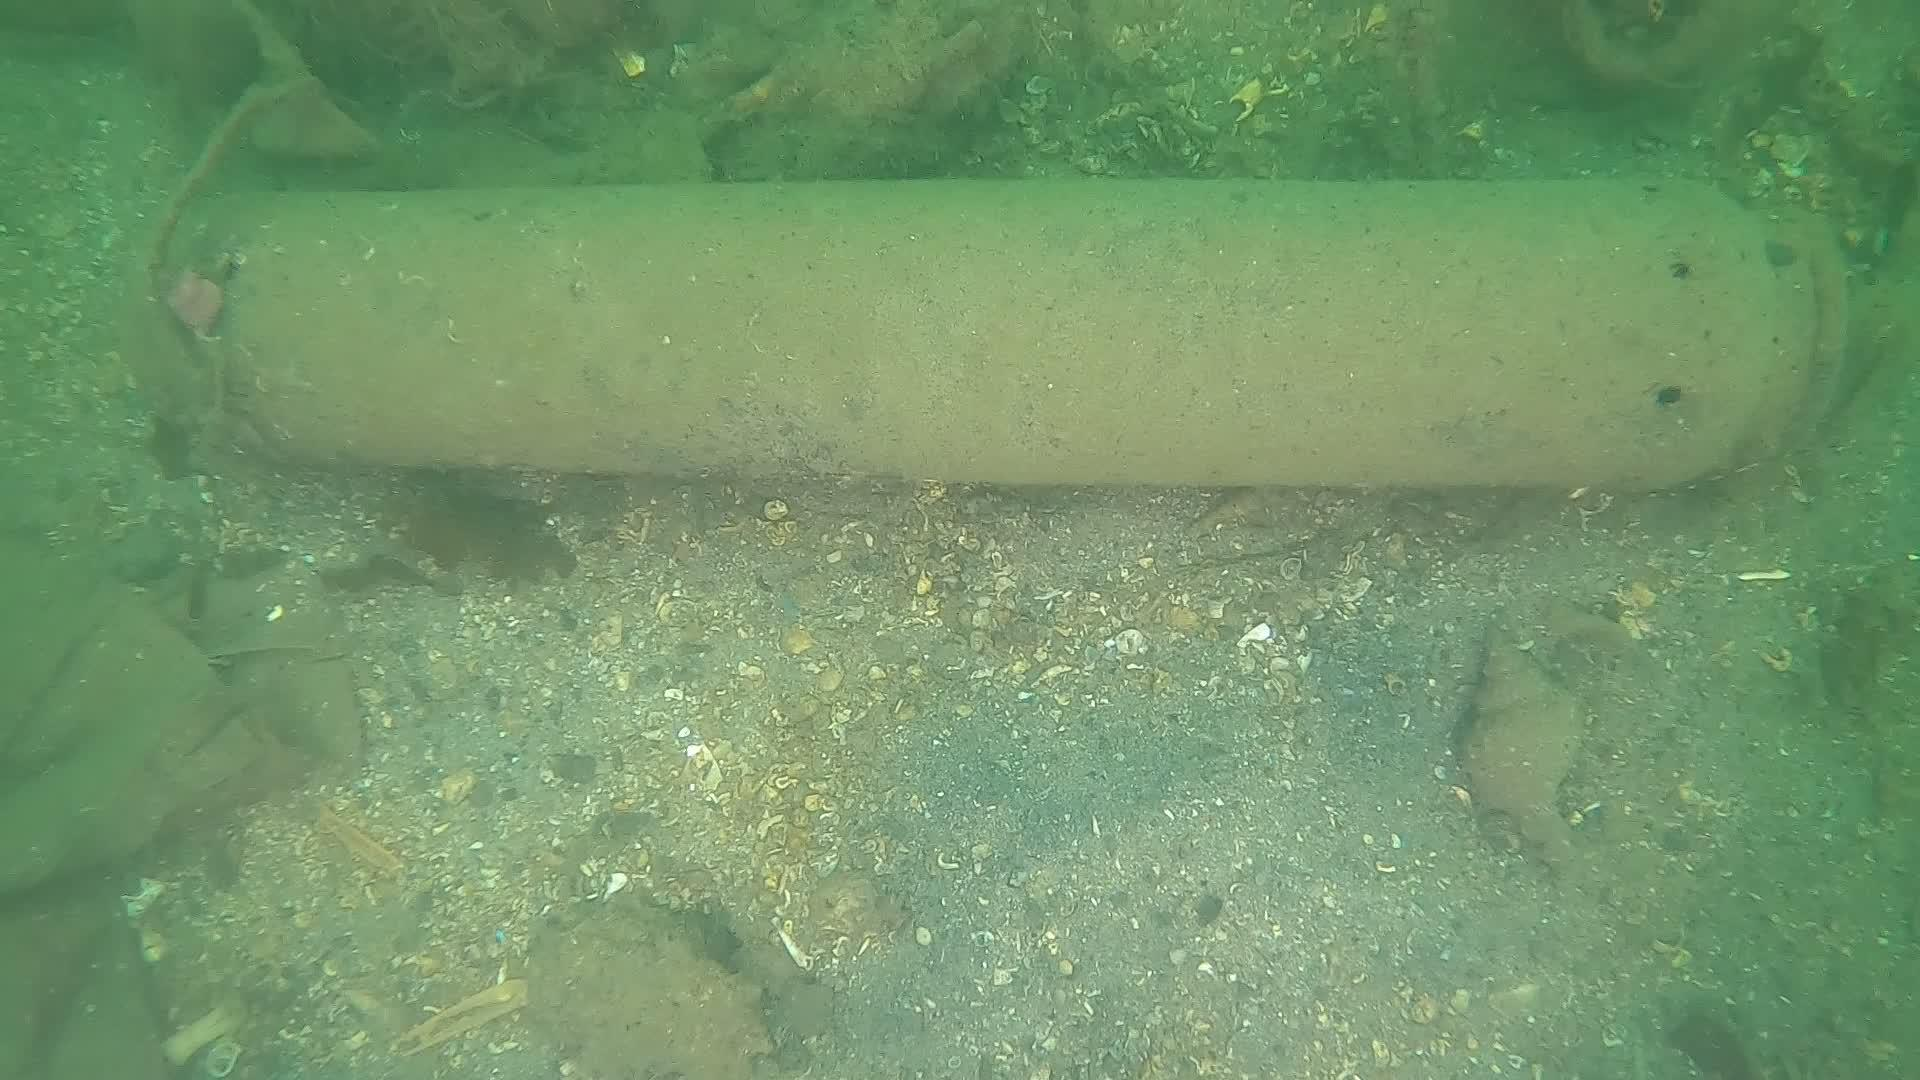eel fish trap: (218, 171, 1859, 495)
